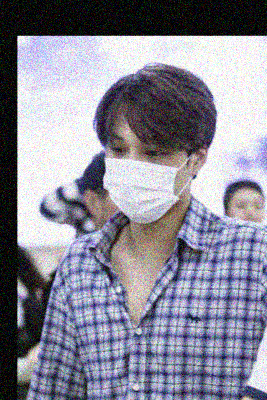with_mask: (105, 130, 195, 220)
